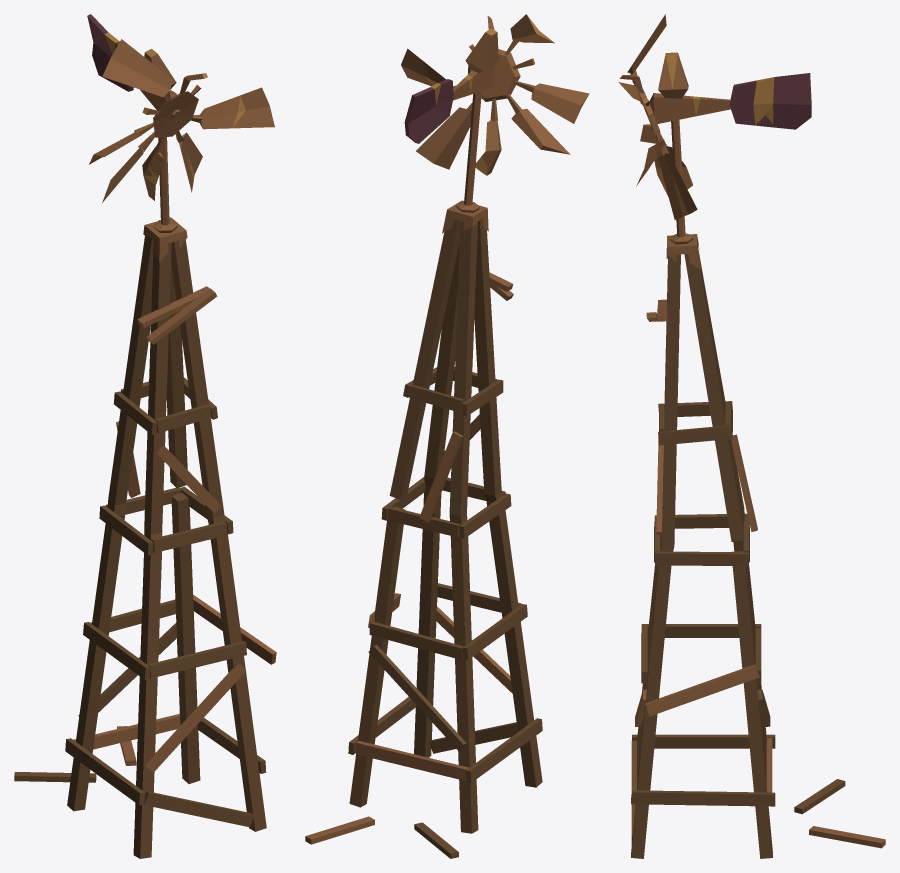
The model's file is windmill-western-apocalypse-a.fbx.
3 renders of one model, left to right at view 1: azimuth 30°, elevation 25°; view 2: azimuth 150°, elevation 25°; view 3: azimuth 270°, elevation 25°, orthographic. The views are drawn at different scales.
Visible parts, largest first — view 1: windmill-western-apocalypse-a; view 2: windmill-western-apocalypse-a; view 3: windmill-western-apocalypse-a.
Boxes of the visible parts, <box> form: windmill-western-apocalypse-a: <box>14,14,276,858</box>; windmill-western-apocalypse-a: <box>305,14,589,858</box>; windmill-western-apocalypse-a: <box>618,14,885,858</box>.
Bounding box in the file's own units: 2.46 × 10.15 × 3.13.
